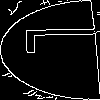L: (25, 25, 100, 55)
